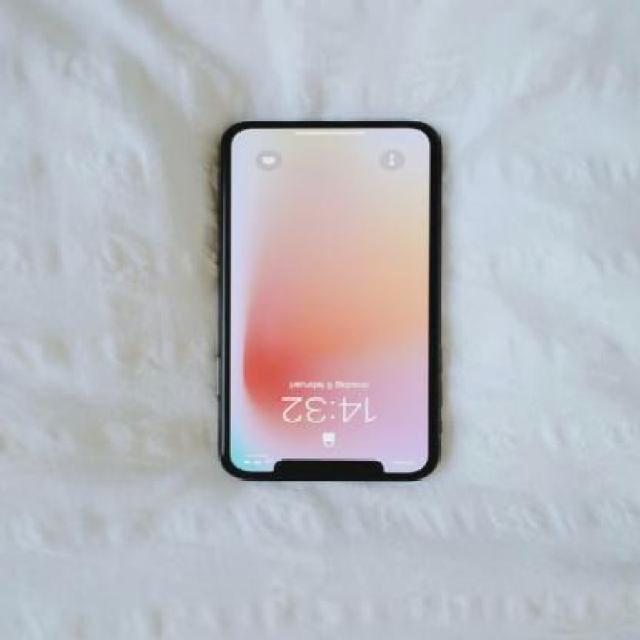phone: (218, 121, 444, 481)
